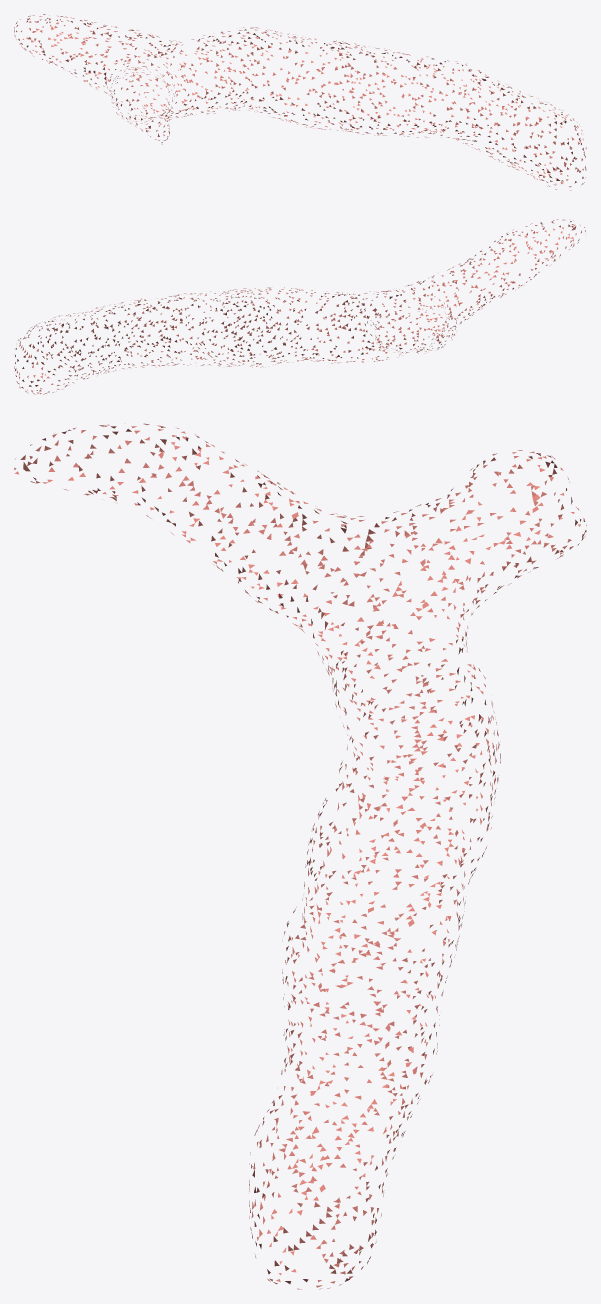
The model's file is morph_001.glb.
3 views of the same model, one above another, from view 1: azimuth 30°, elevation 25°; view 2: azimuth 150°, elevation 25°; view 3: azimuth 270°, elevation 25° (orthographic). The views are drawn at different scales.
Size of the model in its own units: 113 by 53.75 by 62.16.
